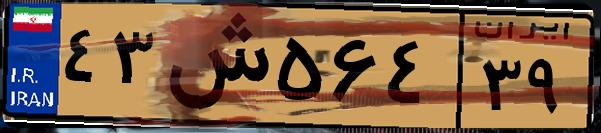3: (475, 38, 525, 113), (110, 28, 158, 98)
4: (385, 28, 445, 110), (57, 26, 110, 100)
5: (270, 28, 330, 110)
6: (330, 28, 385, 110)
9: (525, 38, 570, 115)
ش: (158, 12, 270, 120)
